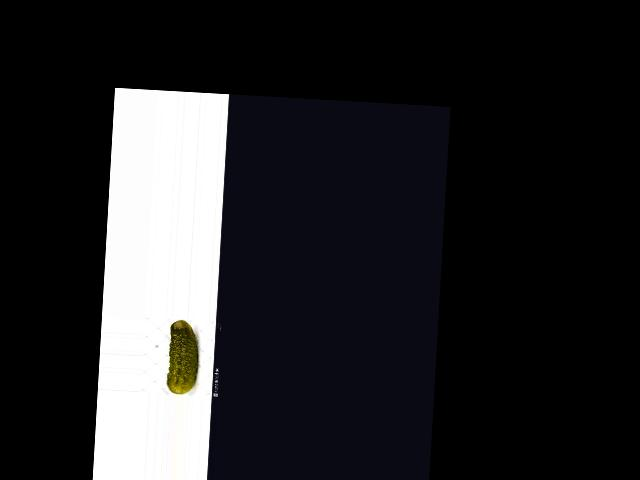cucumber: (166, 318, 200, 395)
